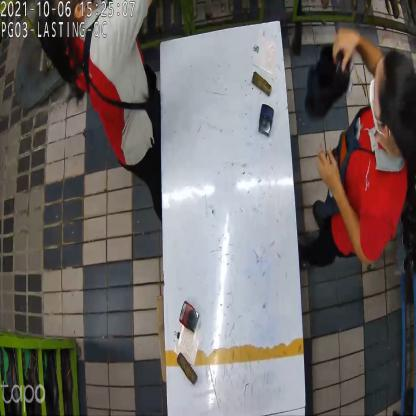shoes: (304, 50, 355, 121)
stamp: (256, 106, 276, 141), (180, 297, 198, 330)
